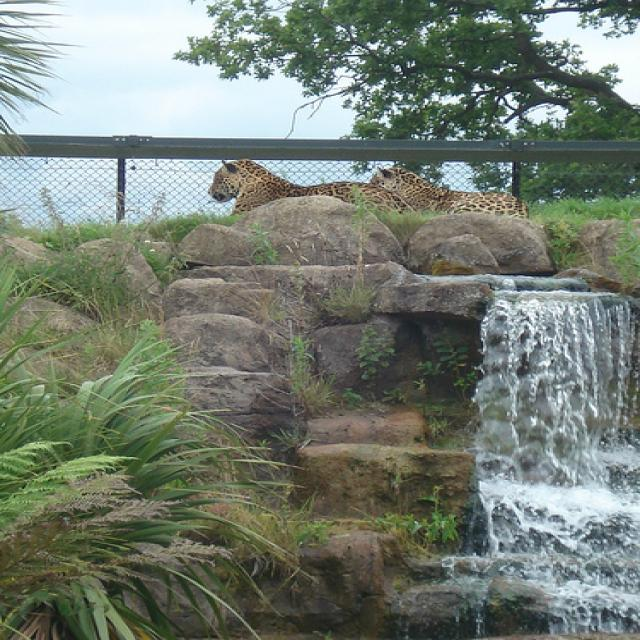Leopard: (205, 154, 403, 216), (370, 162, 529, 219)
